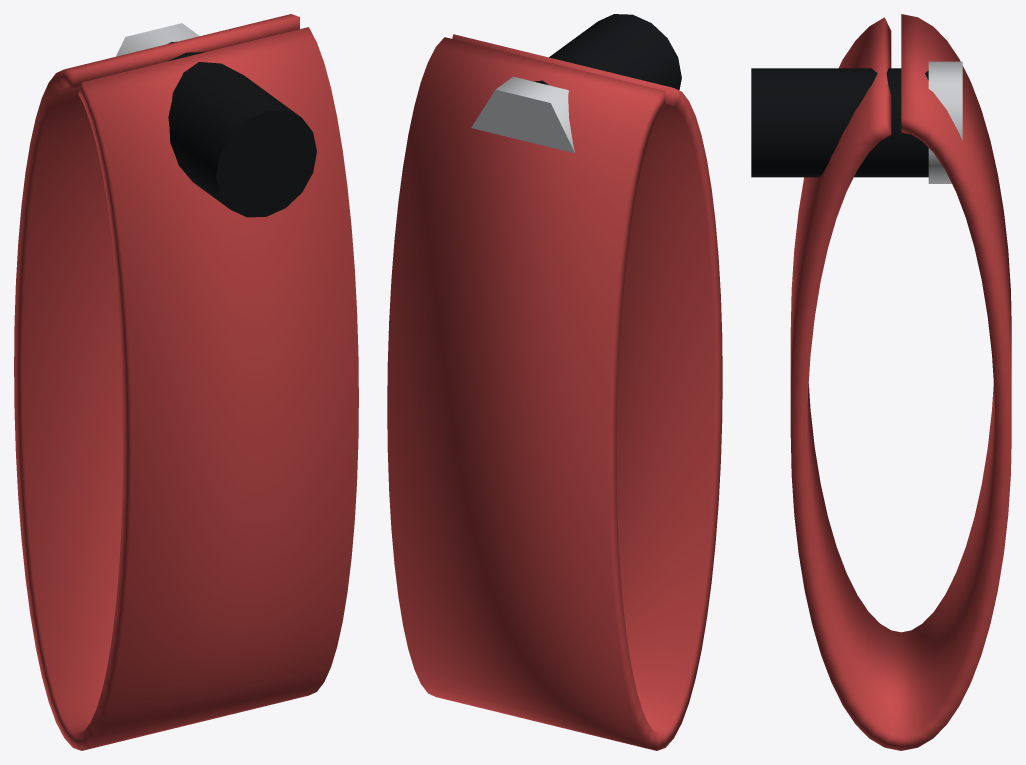
Rendered from DT08_tow_strap.glb.
The picture shows the model from 3 angles, left to right: view 1: azimuth 30°, elevation 25°; view 2: azimuth 150°, elevation 25°; view 3: azimuth 270°, elevation 25°; orthographic projection. The views are drawn at different scales.
Parts seen in each view (by area): view 1: MOD_NA_DT08_webbing, MOD_NA_DT08_bracket, MOD_NA_DT08_bolt; view 2: MOD_NA_DT08_webbing, MOD_NA_DT08_bracket, MOD_NA_DT08_bolt; view 3: MOD_NA_DT08_webbing, MOD_NA_DT08_bracket, MOD_NA_DT08_bolt.
Boxes of the visible parts, x1,y1,x2,y2 form: MOD_NA_DT08_webbing: [14, 14, 358, 750]; MOD_NA_DT08_bracket: [167, 41, 316, 217]; MOD_NA_DT08_bolt: [116, 23, 199, 56]; MOD_NA_DT08_webbing: [387, 34, 722, 750]; MOD_NA_DT08_bracket: [533, 14, 681, 90]; MOD_NA_DT08_bolt: [471, 76, 574, 153]; MOD_NA_DT08_webbing: [790, 14, 1011, 750]; MOD_NA_DT08_bracket: [751, 68, 928, 177]; MOD_NA_DT08_bolt: [928, 61, 962, 183].
Bounding box in the file's own units: 0.036 × 0.1024 × 0.0382.
